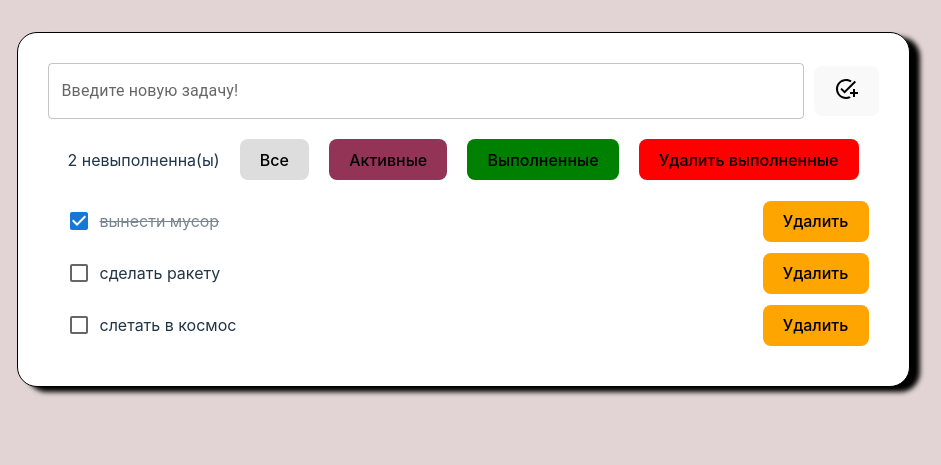
Todos Component › adds a new task
Step 1. Type "новая задача" into the field labelled "Введите новую задачу!" → (426, 91), box x1=48 y1=63 x2=804 y2=119
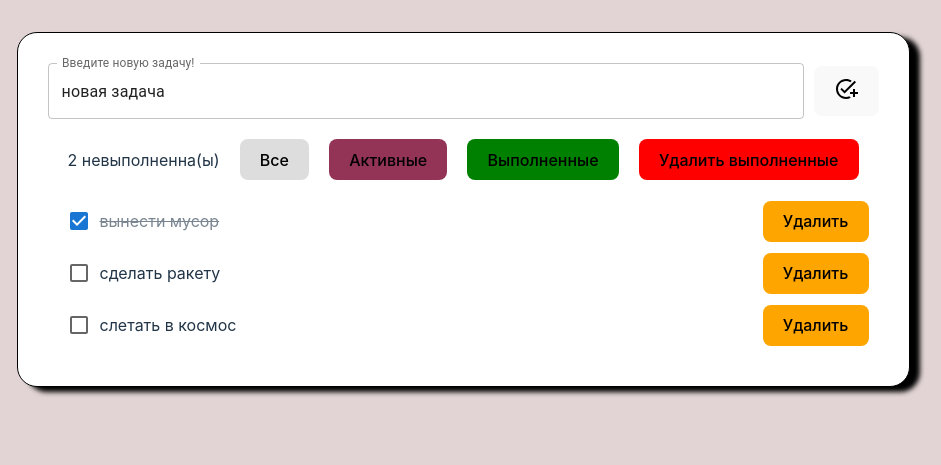
Step 2. Click the button named "add" → (846, 91), box x1=814 y1=66 x2=878 y2=116
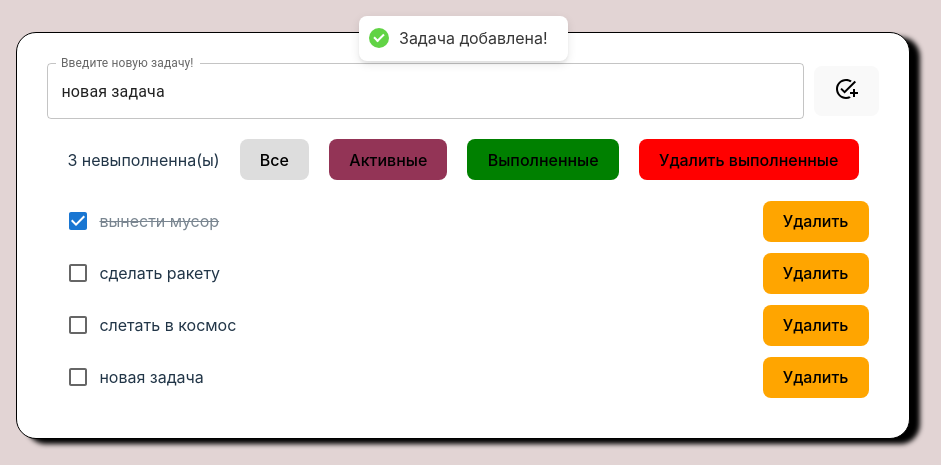
expect the text "новая задача" is shown: met, box x1=99 y1=365 x2=204 y2=389
